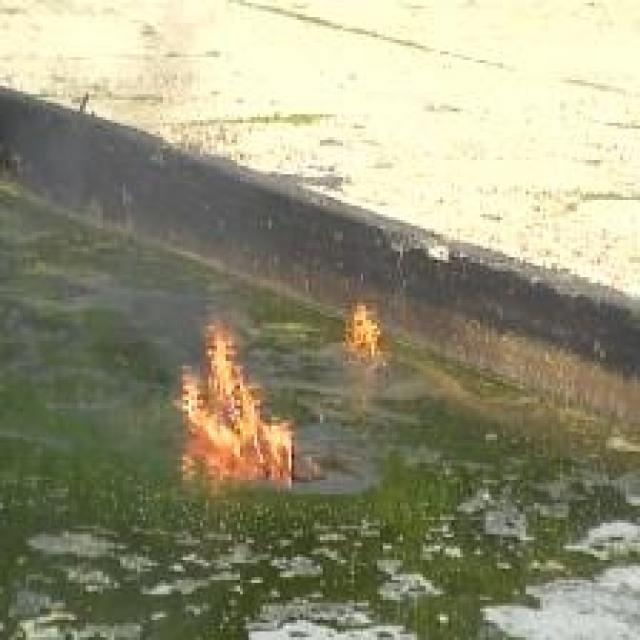Fire: (178, 319, 292, 487), (340, 303, 380, 357)
